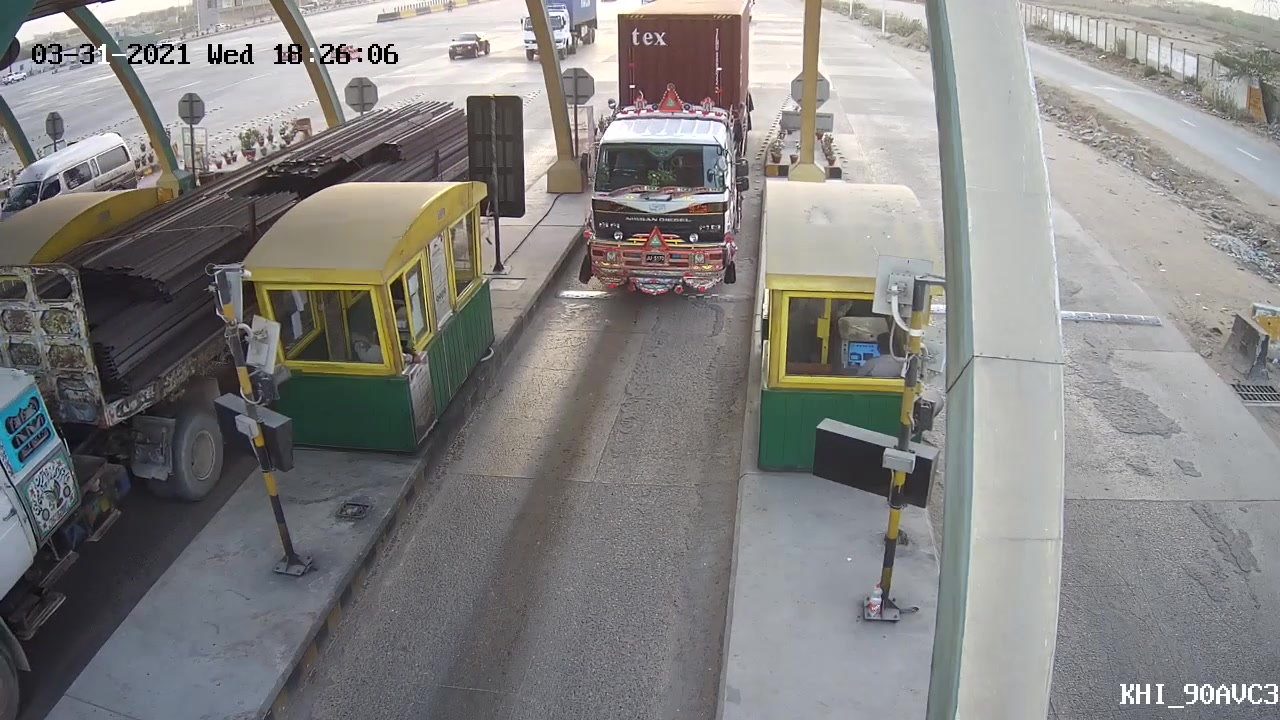F6: (548, 4, 760, 309)
